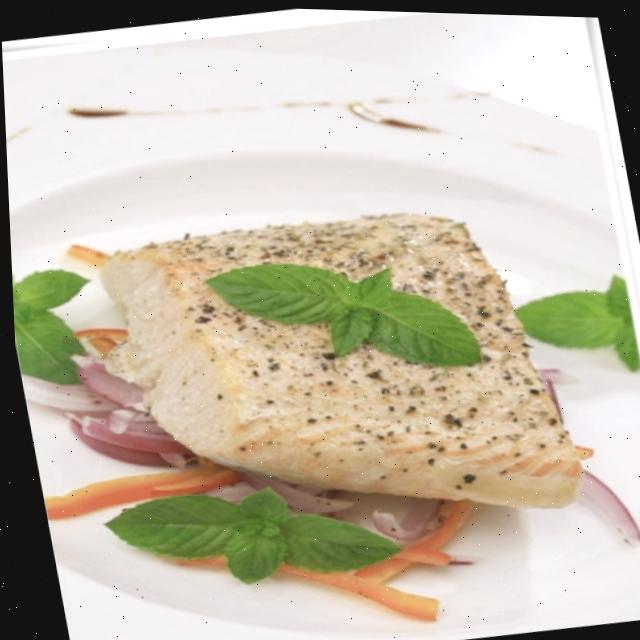熟制海鲜: (1, 23, 640, 640)
